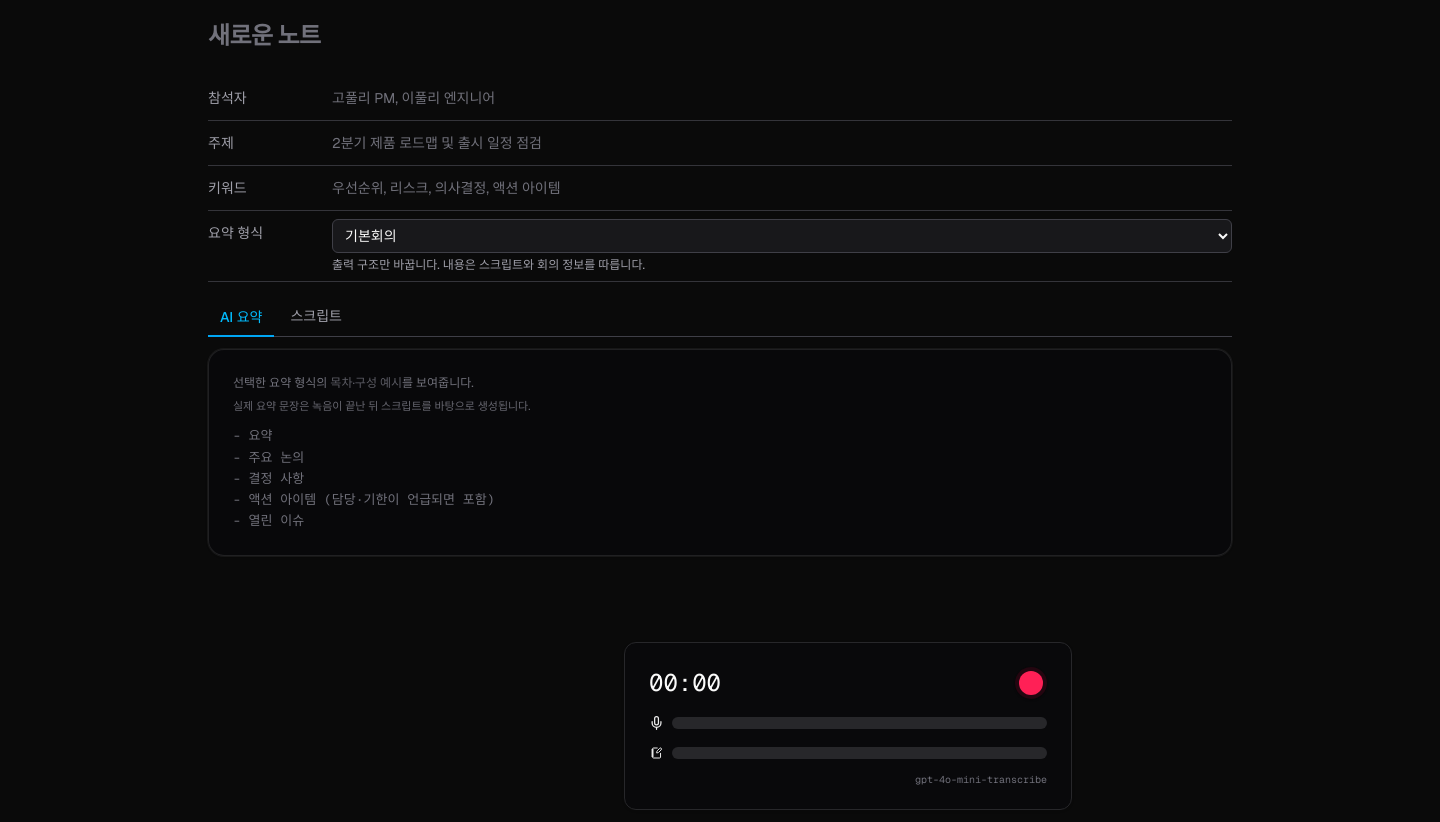
Test: Recorder 홈 레이아웃 (노트 작업면 + RecordingCard) › 스크립트 탭을 누르면 스크립트 카드가 보이고 요약 미리보기 패널은 숨긴다
What coordinates should you click on to do the following:
click the tab with test id "note-tab-script"
I would click on:
 (316, 317)
Its box is [278, 298, 354, 336].
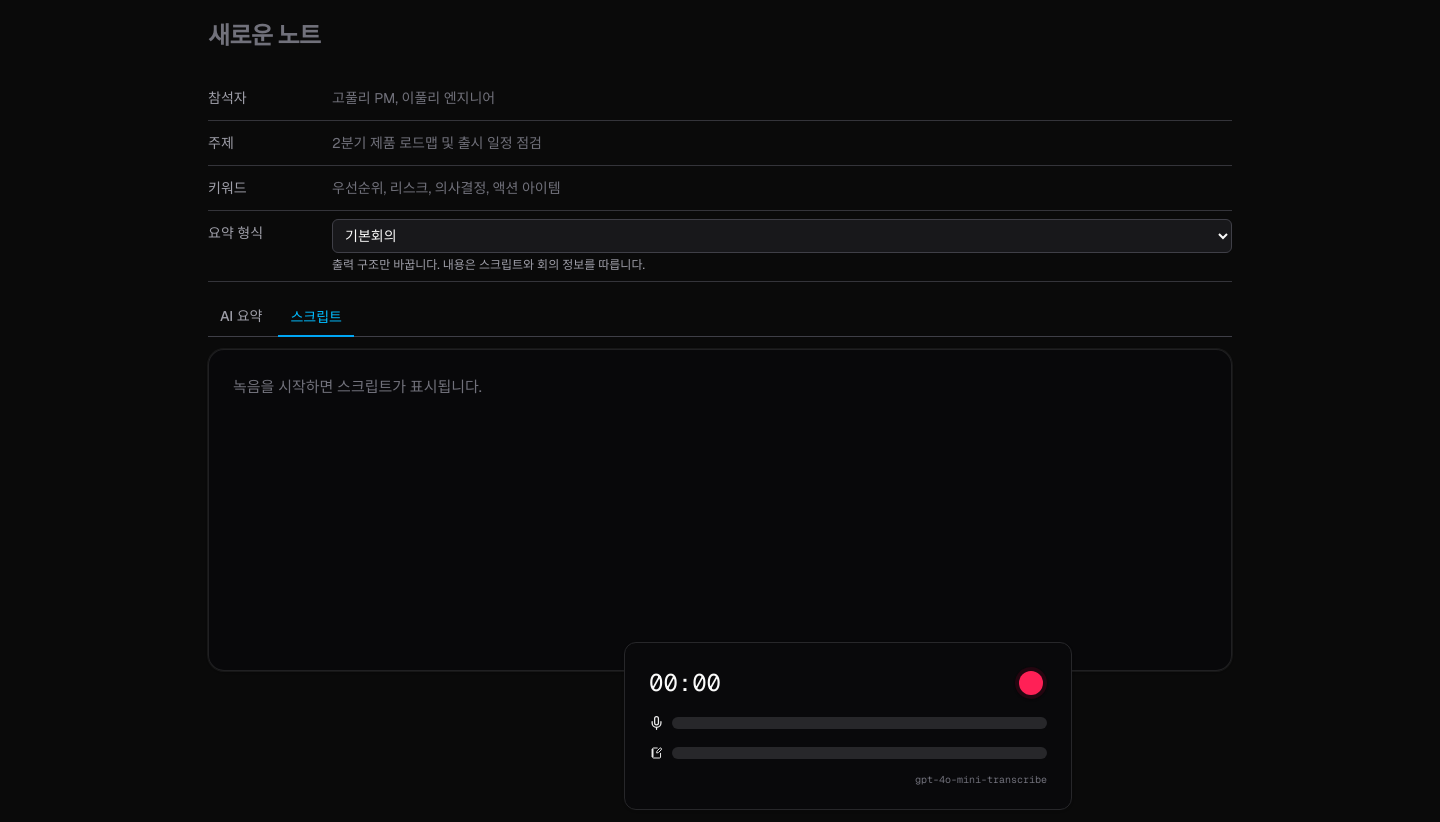
Expected: the element with test id "transcript-view-card" is shown, [233, 374, 1207, 646]
